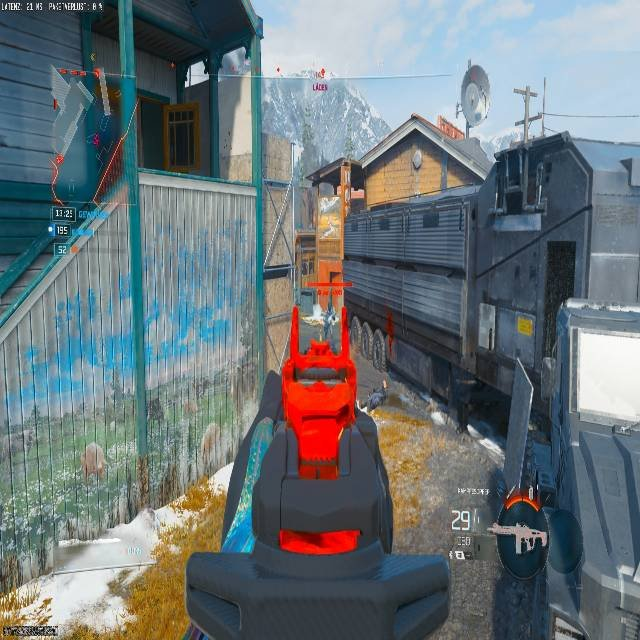player: (321, 306, 337, 338)
